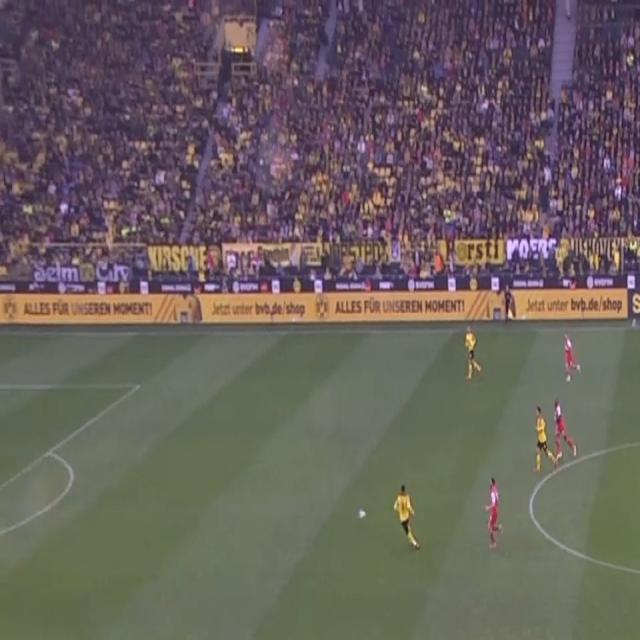ball: (357, 508, 366, 521)
